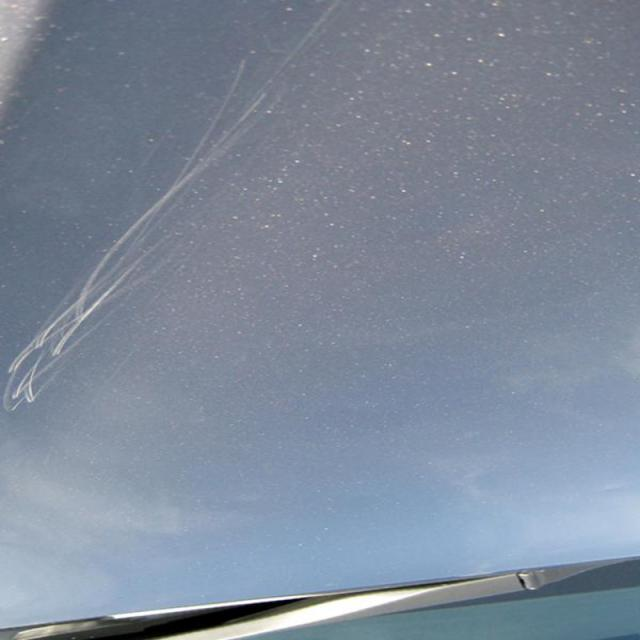scratch: (0, 138, 223, 428)
